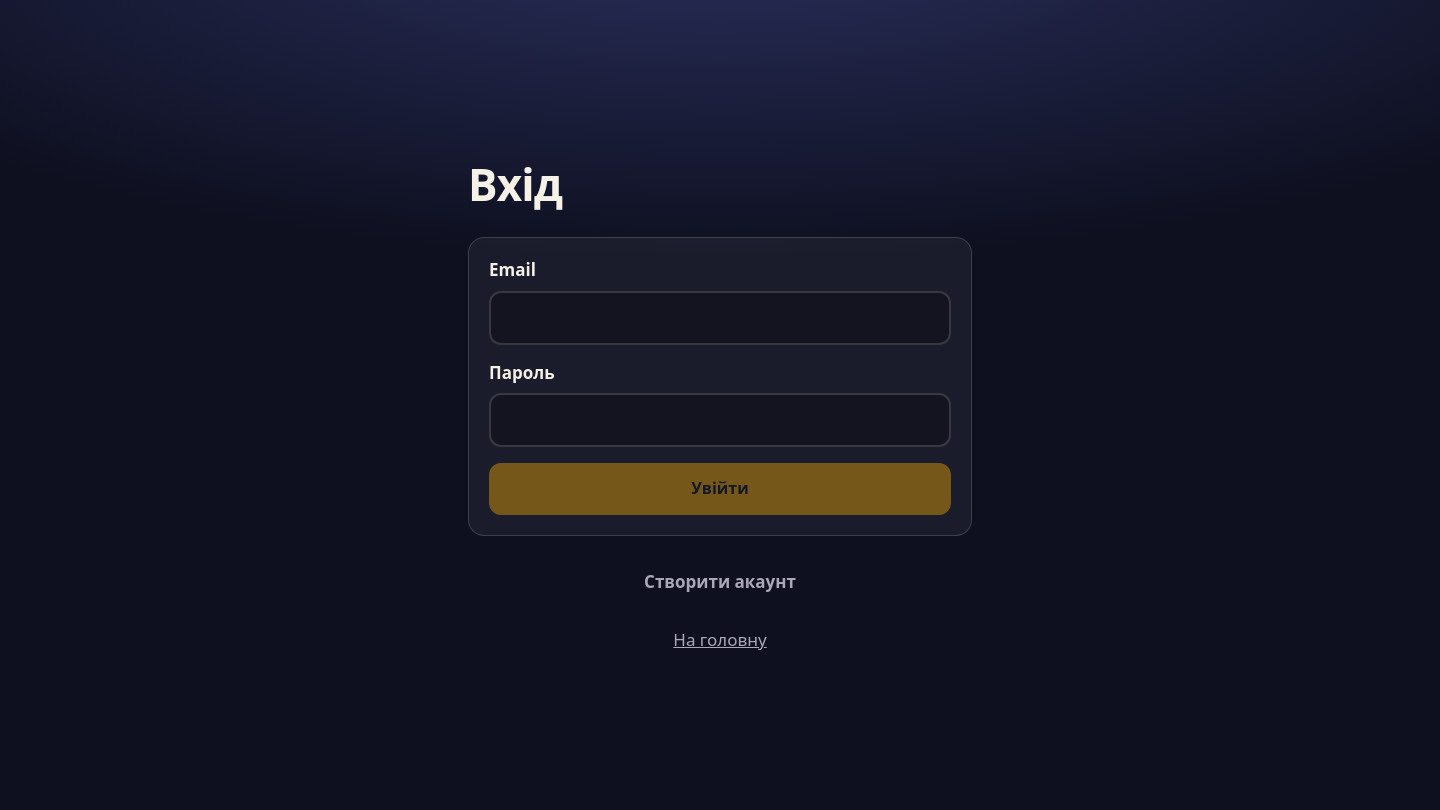
Test: Login › explains a wrong password in plain words
The width and height of the screenshot is (1440, 810).
Step 1. Type "o@example.com" into the field labelled "Email" → (720, 318), box [489,291,951,345]
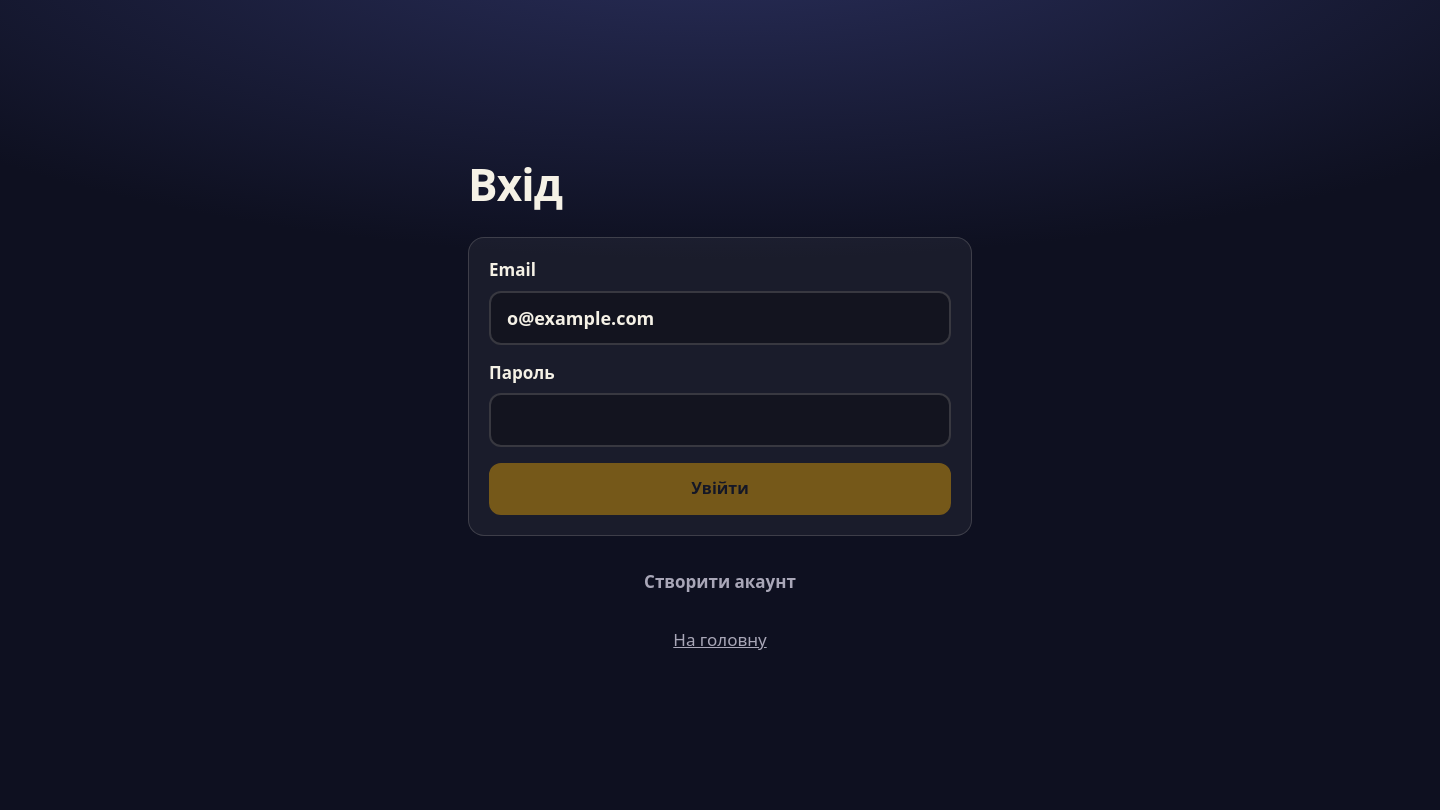
Step 2. Type "password1" into the password field labelled "Пароль" → (720, 420), box [489,393,951,447]
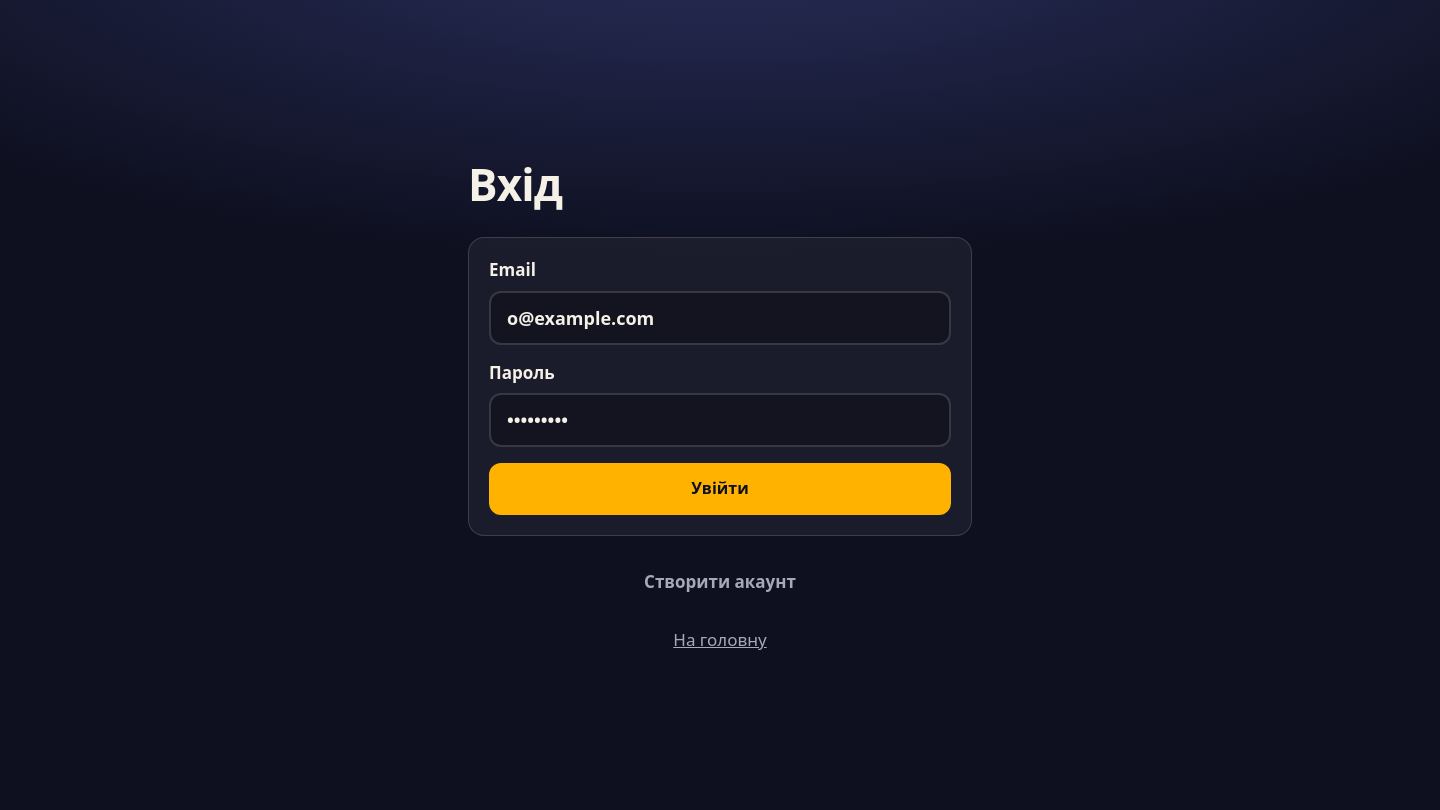
Step 3. Click the button "Увійти" → (720, 489), box [489,463,951,515]
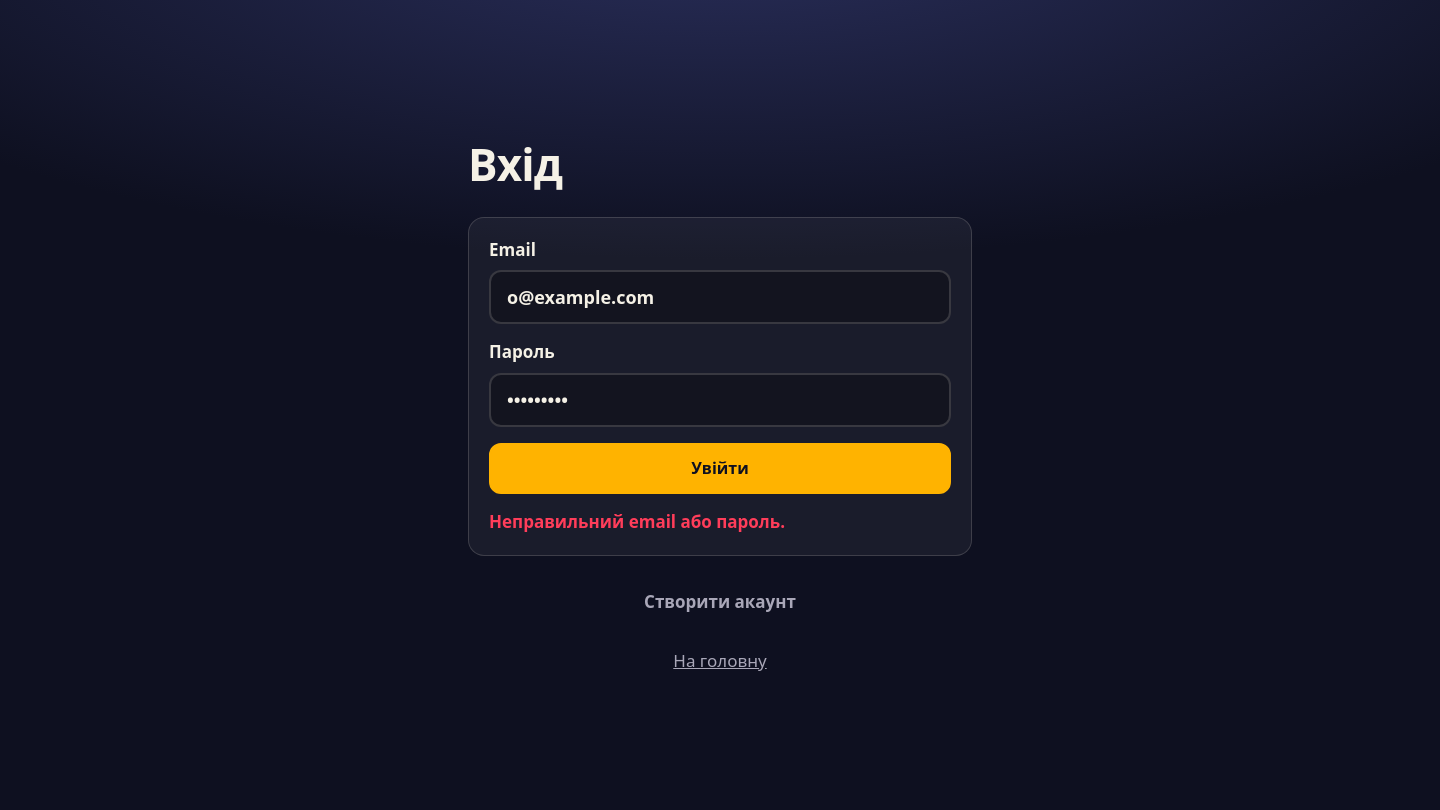
Expected: the message reads "Неправильний email або пароль.", [489,510,785,533]
